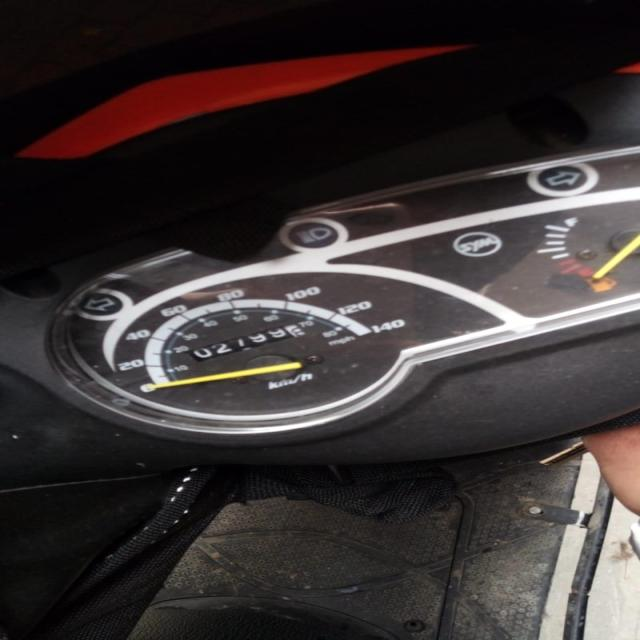odometer: (180, 322, 314, 363)
